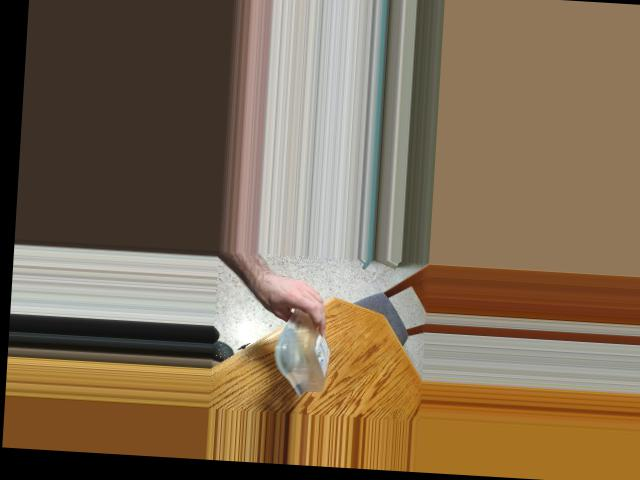cheese: (276, 291, 335, 397)
